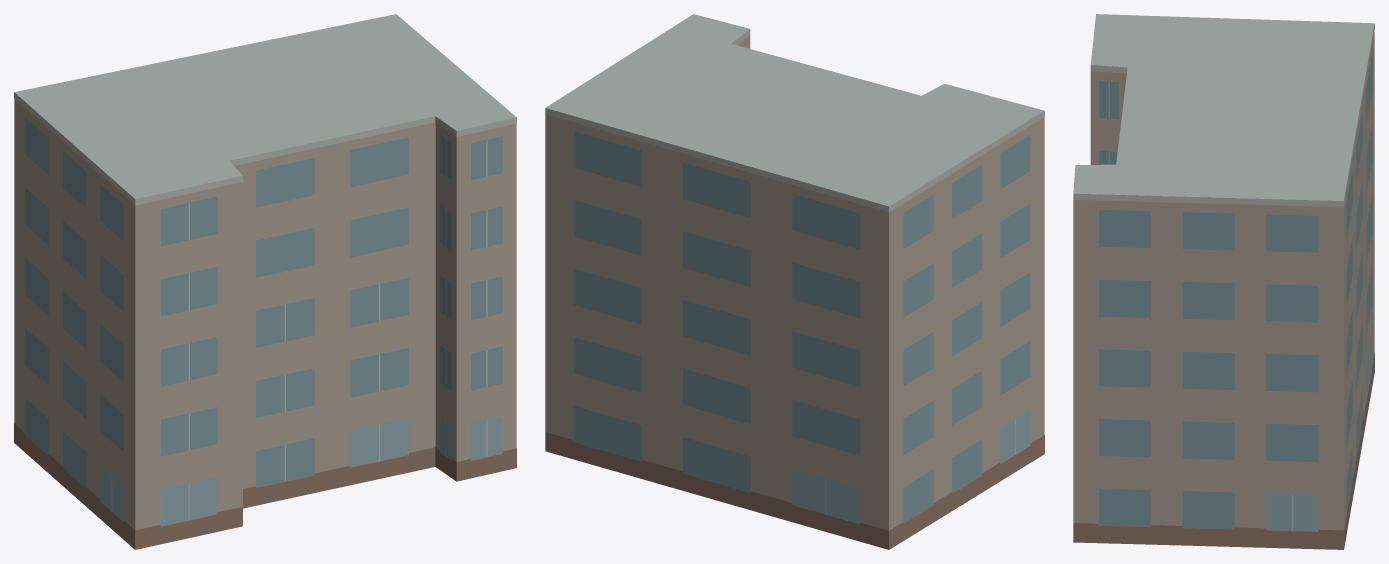
File: survey-upis-33014555.glb
3 views of the same model, side by side, from view 1: azimuth 30°, elevation 25°; view 2: azimuth 150°, elevation 25°; view 3: azimuth 270°, elevation 25° (orthographic). The views are drawn at different scales.
Parts seen in each view (by area): view 1: survey-upis-33014555.tmp; view 2: survey-upis-33014555.tmp; view 3: survey-upis-33014555.tmp.
Boxes of the visible parts, left/top/right/bottom form: survey-upis-33014555.tmp: left=14, top=14, right=516, bottom=549; survey-upis-33014555.tmp: left=545, top=14, right=1044, bottom=549; survey-upis-33014555.tmp: left=1073, top=14, right=1374, bottom=549.
Size of the model in its own units: 15.89 by 13.8 by 10.82.
